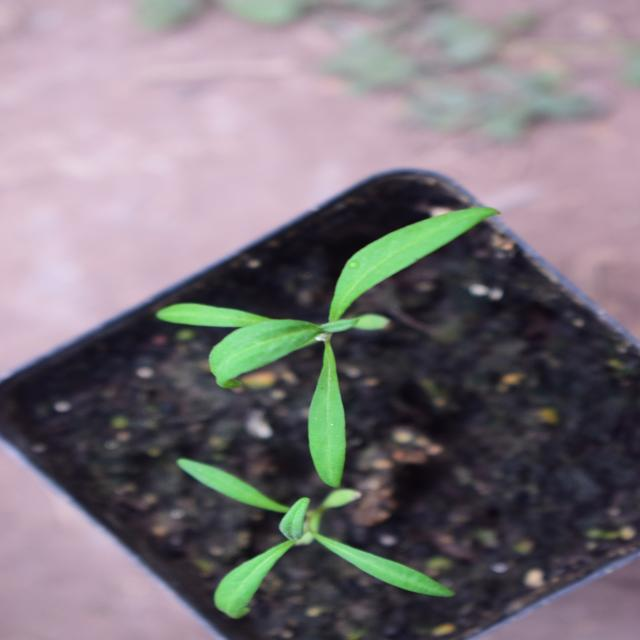white_smart_weed: (188, 144, 434, 500), (25, 141, 184, 487)
